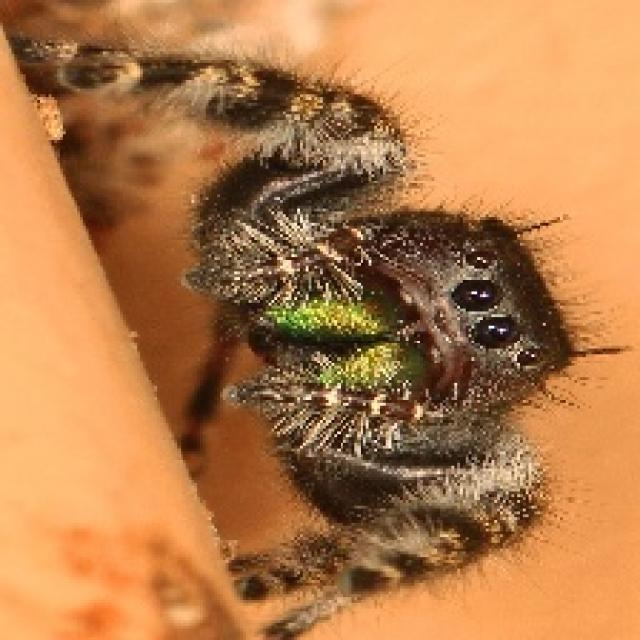Non venomous spider: (18, 33, 598, 629)
